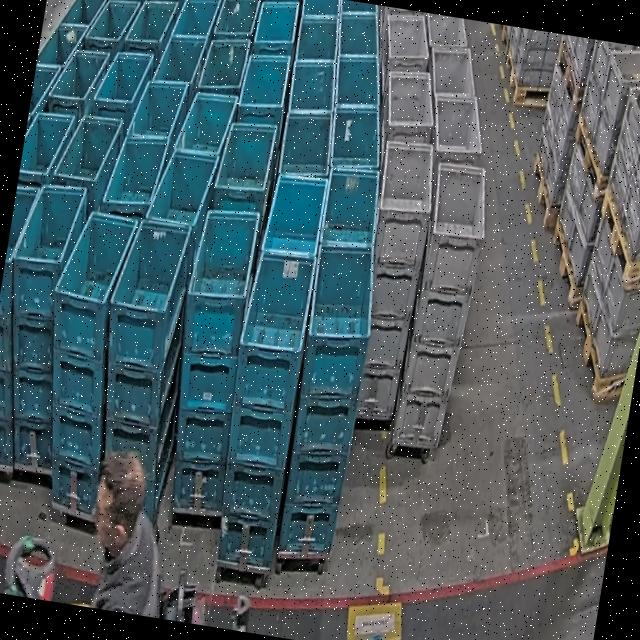4G: (392, 158, 496, 452), (343, 137, 442, 421)
B4: (76, 212, 206, 527), (20, 206, 146, 520), (269, 236, 385, 562), (204, 246, 318, 570), (152, 204, 268, 516), (0, 176, 98, 472)
